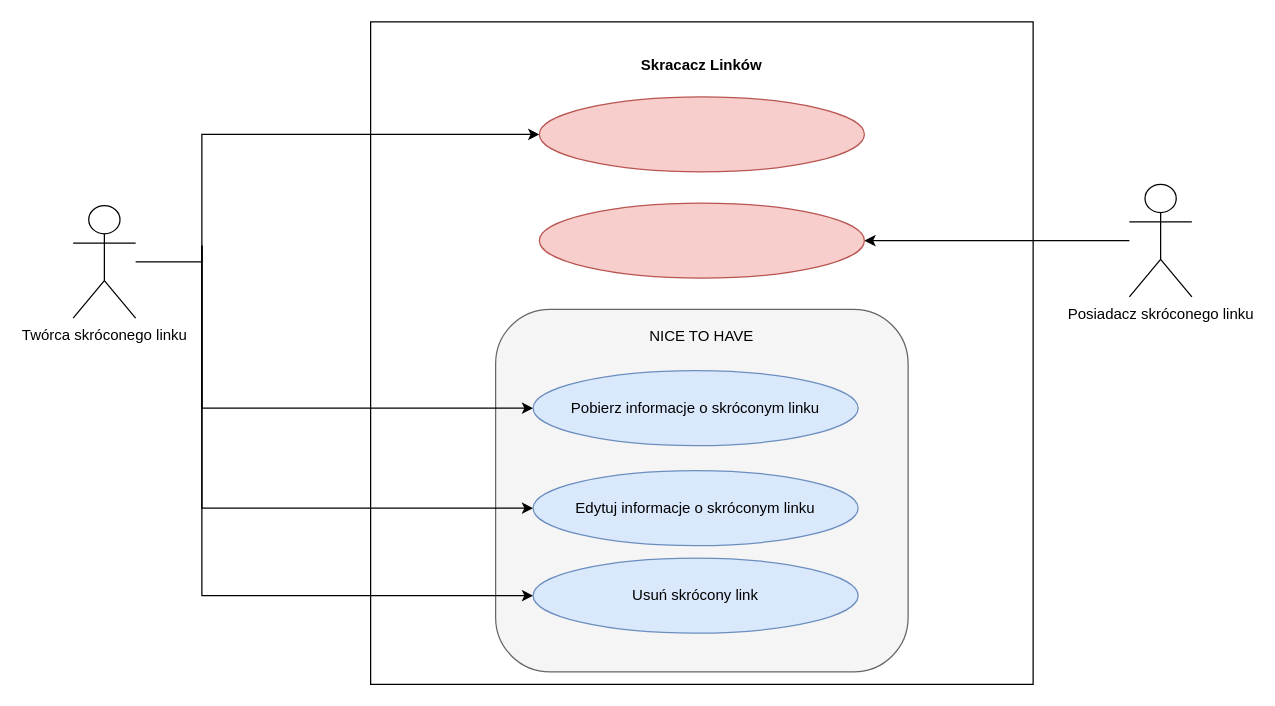
This 1275x706 diagram has some shape labels left out. The shapes that lost their labels are listed below. From the top down, each one's centre as x and y in pixels, then its label:
pixel 701 134: Utwórz skrócony link
pixel 701 240: Przenieś na stronę
